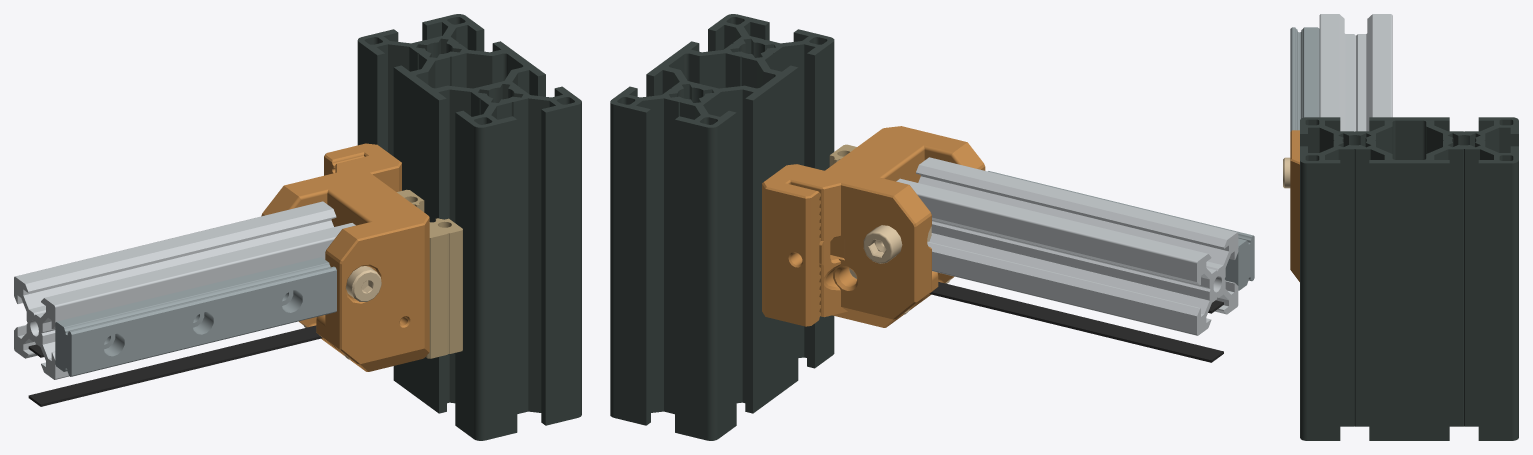
The model's file is right_before.glb.
3 views of the same model, side by side, from view 1: azimuth 30°, elevation 25°; view 2: azimuth 150°, elevation 25°; view 3: azimuth 270°, elevation 25° (orthographic). The views are drawn at different scales.
Visible parts, largest first — view 1: col_right, Rold28, ext, rail, slider_right, belt2, Rold36; view 2: col_right, ext, Rold28, belt2, rail, Rold37; view 3: col_right, ext, rail, Rold28, Rold36.
Boxes of the visible parts, x1,y1,x2,y2 form: col_right: (357,14,581,440); Rold28: (261,143,429,371); ext: (14,201,355,379); rail: (55,257,336,376); slider_right: (397,189,462,358); belt2: (28,325,322,406); Rold36: (346,266,381,301); col_right: (610,14,834,440); ext: (896,157,1238,335); Rold28: (762,126,985,327); belt2: (930,282,1223,362); rail: (988,171,1254,290); Rold37: (863,225,902,263); col_right: (1300,117,1518,440); ext: (1319,14,1392,131); rail: (1290,27,1319,131); Rold28: (1290,130,1299,281); Rold36: (1283,157,1290,188).
Size of the model in its own units: 0.1456 by 0.084 by 0.0646.
